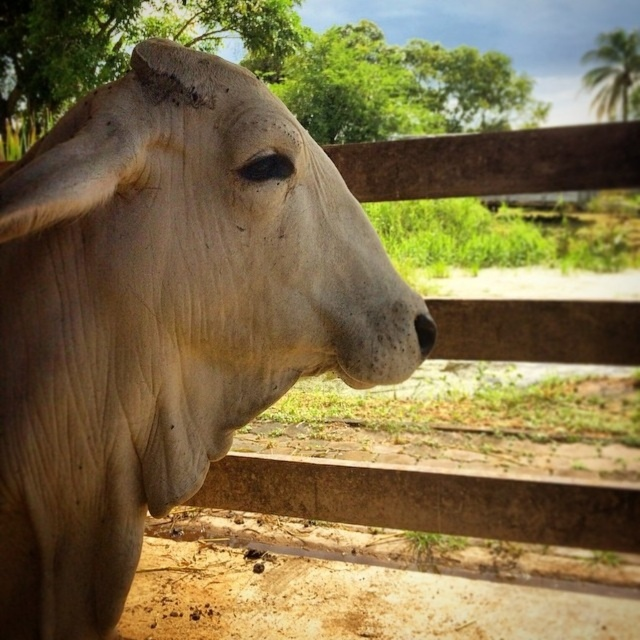Cattle: (0, 23, 437, 640)
